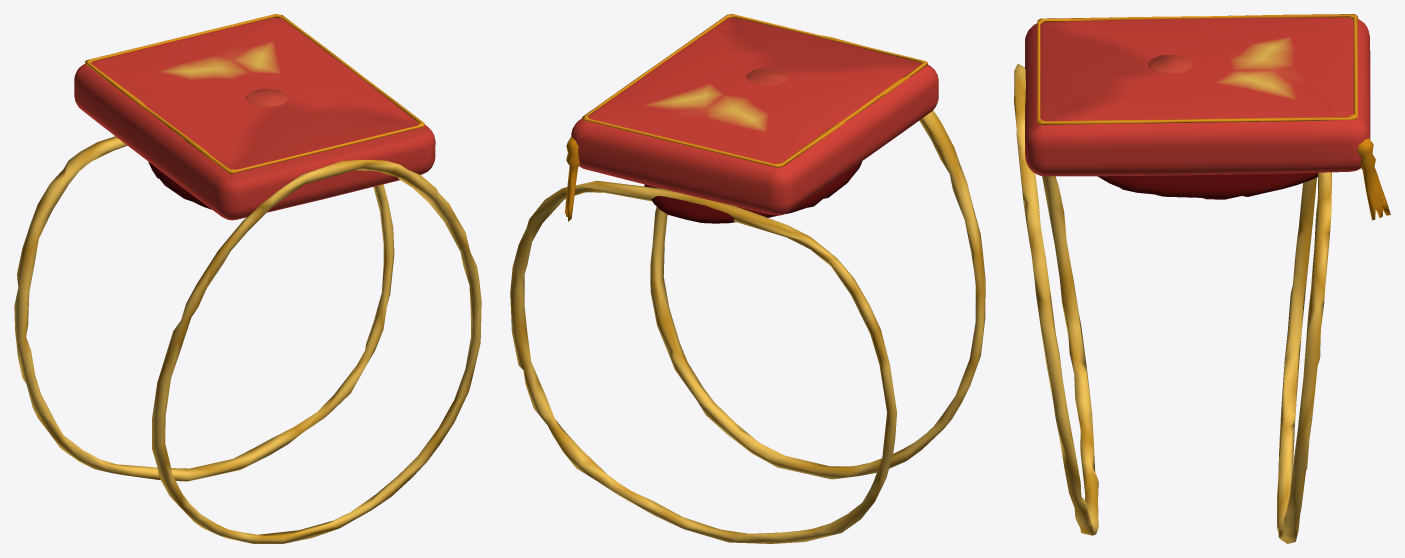
File: baolixi.glb
The picture shows the model from 3 angles, left to right: view 1: azimuth 30°, elevation 25°; view 2: azimuth 150°, elevation 25°; view 3: azimuth 270°, elevation 25°; orthographic projection. The views are drawn at different scales.
Visible parts, largest first — view 1: Bao_Li_Xi, Day_Tet, Vien_Vang, Dau_Tron; view 2: Bao_Li_Xi, Day_Tet, Vien_Vang, De_Lot, Tua_Vang, Dau_Tron; view 3: Bao_Li_Xi, Day_Tet, De_Lot, Vien_Vang, Tua_Vang, Dau_Tron.
Part boxes in pixels (<box>): Bao_Li_Xi: <box>74,17,435,220</box>; Day_Tet: <box>14,136,481,543</box>; Vien_Vang: <box>85,14,424,173</box>; Dau_Tron: <box>246,88,287,107</box>; Bao_Li_Xi: <box>571,17,938,215</box>; Day_Tet: <box>510,35,985,543</box>; Vien_Vang: <box>582,14,927,167</box>; De_Lot: <box>644,161,862,223</box>; Tua_Vang: <box>565,137,579,221</box>; Dau_Tron: <box>746,68,788,85</box>; Bao_Li_Xi: <box>1025,17,1370,176</box>; Day_Tet: <box>1014,63,1331,543</box>; De_Lot: <box>1098,172,1317,199</box>; Vien_Vang: <box>1037,14,1357,124</box>; Tua_Vang: <box>1357,138,1390,220</box>; Dau_Tron: <box>1148,55,1192,73</box>.
Size of the model in its own units: 0.2601 by 0.2751 by 0.2074.
